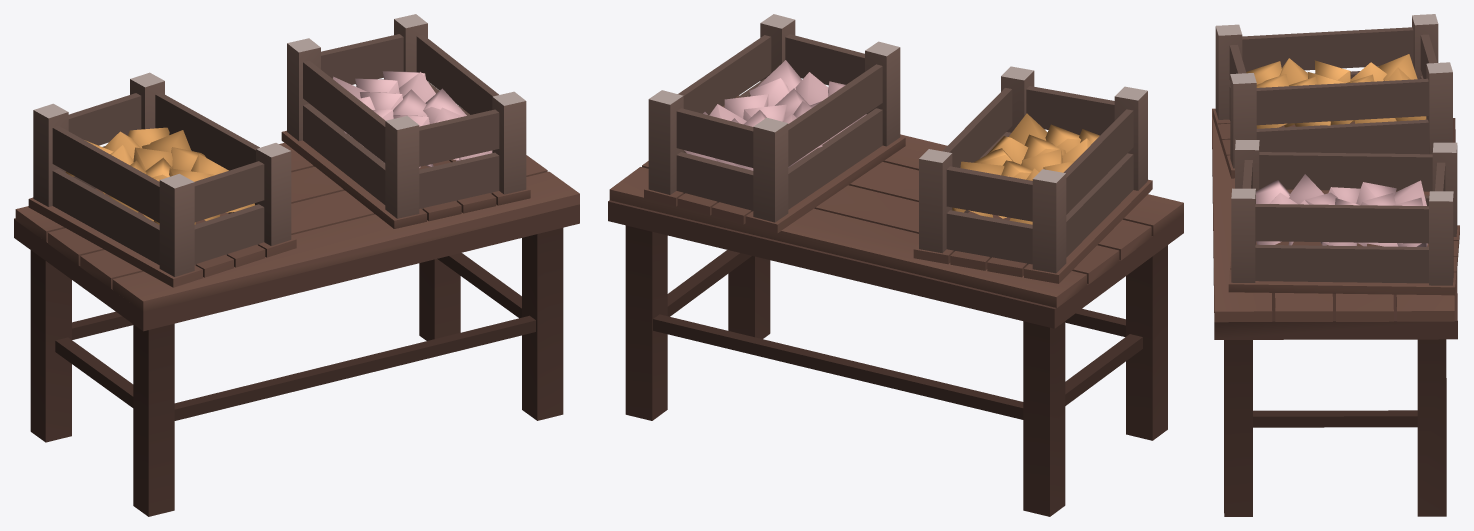
Rendered from table_001.glb.
The picture shows the model from 3 angles, left to right: view 1: azimuth 30°, elevation 25°; view 2: azimuth 150°, elevation 25°; view 3: azimuth 270°, elevation 25°; orthographic projection. The views are drawn at different scales.
Visible parts, largest first — view 1: table_001; view 2: table_001; view 3: table_001.
Boxes of the visible parts, <box> form: table_001: <box>14,14,579,516</box>; table_001: <box>608,14,1183,516</box>; table_001: <box>1212,14,1459,516</box>.
Bounding box in the file's own units: 1.83 × 1.29 × 0.9408.
Materials: 1 (1 with a texture image).
